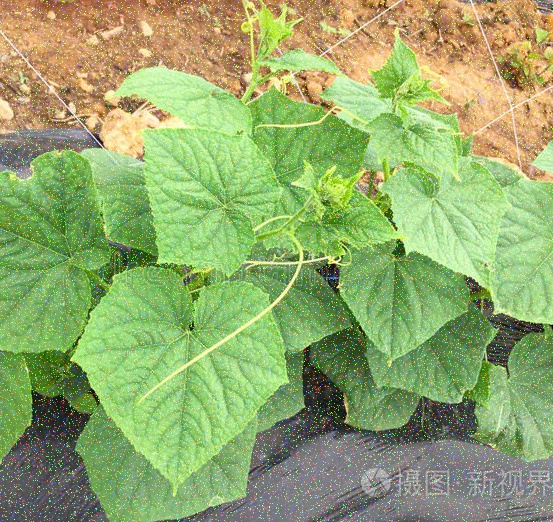cucumber_plant: (157, 78, 476, 256), (81, 255, 291, 514)
